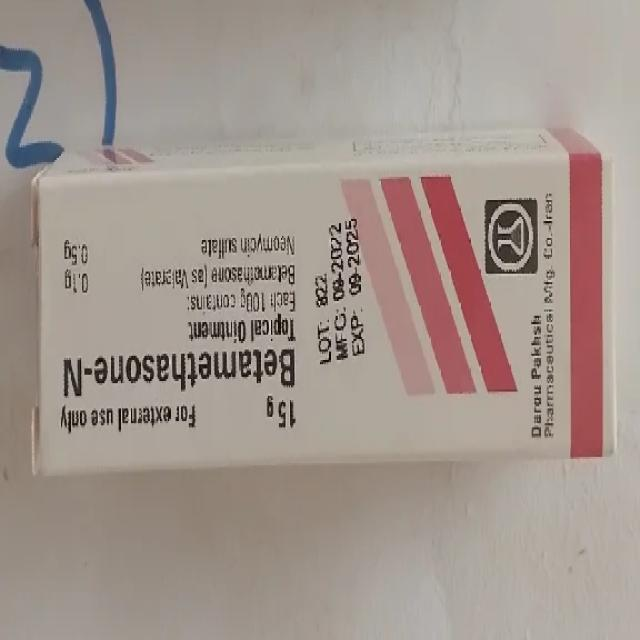drug-name: (60, 342, 300, 402)
